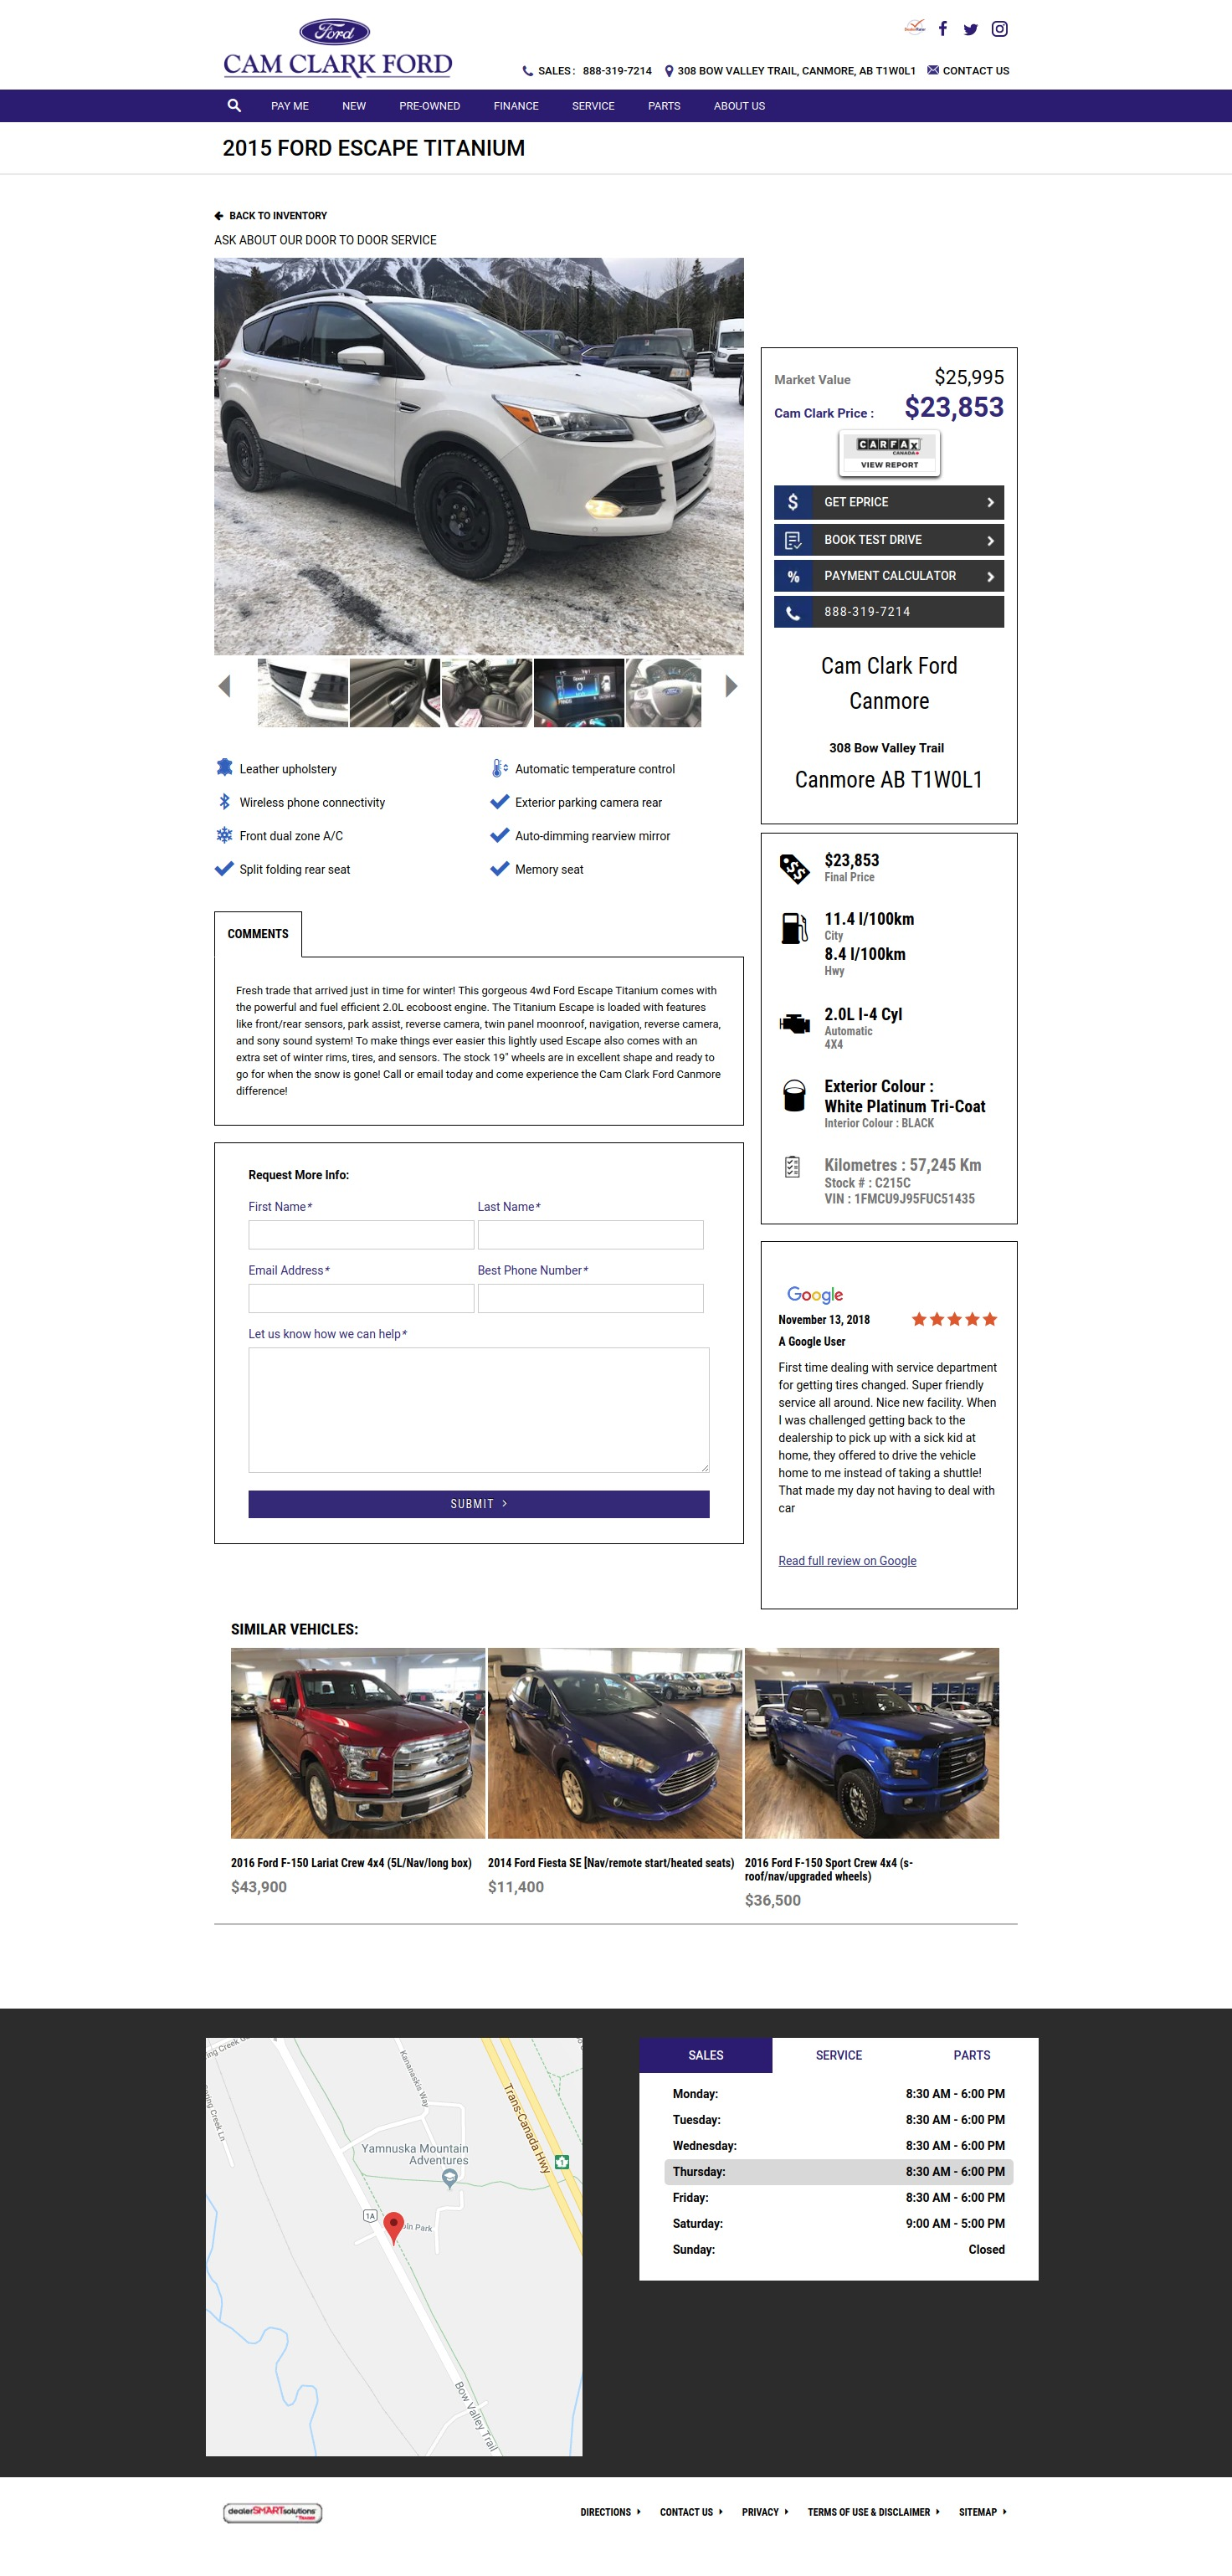car: (723, 675, 739, 700)
